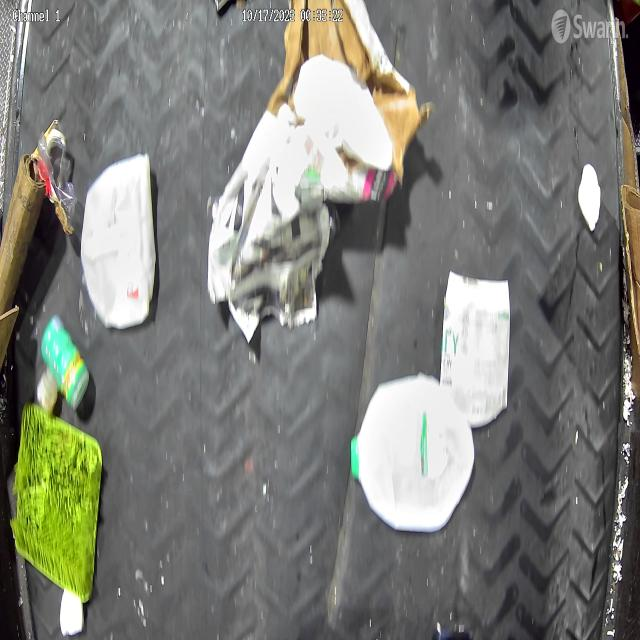milk_jug: (346, 374, 476, 534)
non_white_jug: (80, 153, 157, 328)
